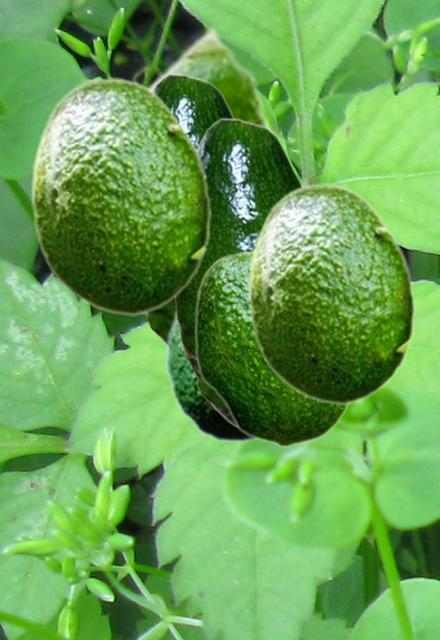avocado: (132, 24, 281, 320), (29, 77, 211, 315), (172, 117, 304, 428), (246, 183, 415, 404), (193, 247, 350, 446), (143, 73, 235, 345), (165, 307, 259, 442)
